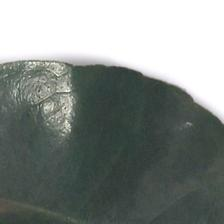healthy: (3, 61, 224, 224)
